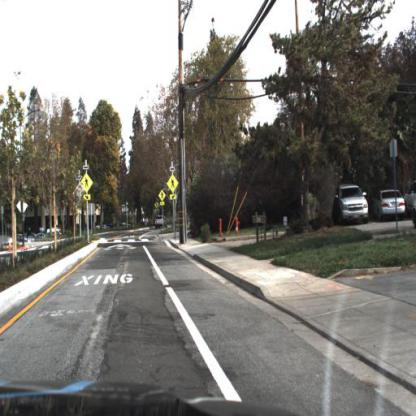car: (332, 185, 370, 227), (373, 191, 407, 222), (401, 181, 416, 221), (156, 216, 168, 230)
